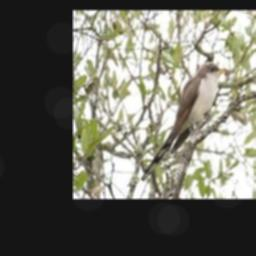Cuckoo: (140, 61, 226, 183)
